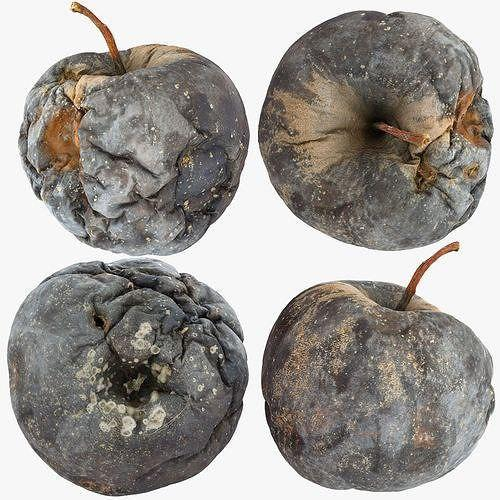Apple: (5, 259, 250, 496), (258, 10, 488, 248), (16, 41, 248, 256), (261, 280, 495, 491)
